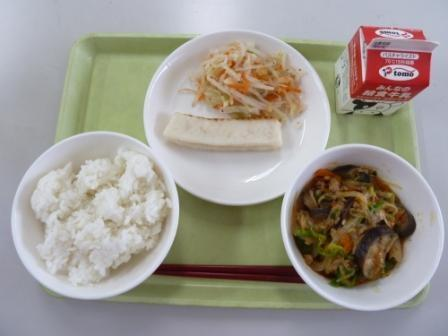Bread: (154, 107, 292, 162)
Milk: (334, 20, 444, 125)
Rice: (7, 136, 178, 293)
Salad: (196, 39, 306, 118)
vegetable soup: (285, 149, 439, 303)
